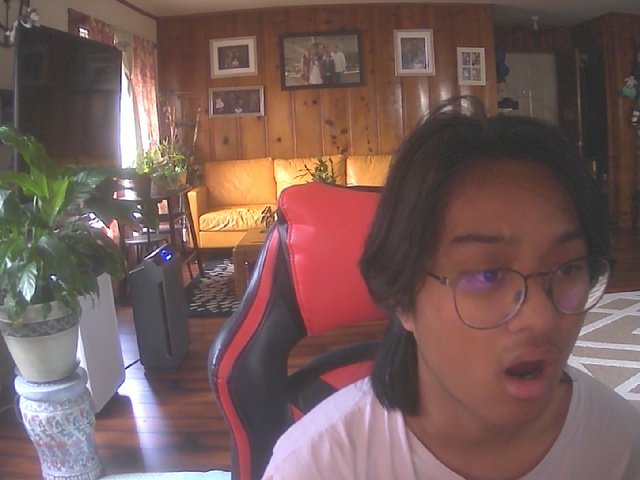fear: (383, 120, 621, 440)
